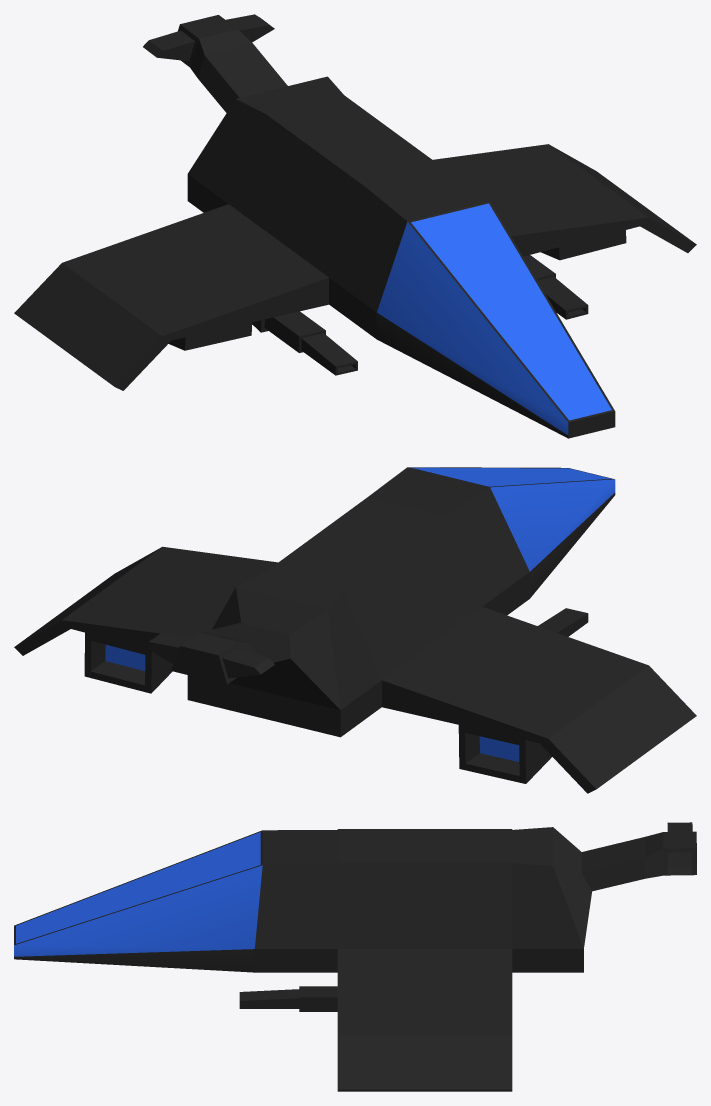
The model's file is Interceptor 1.FBX.
3 views of the same model, one above another, from view 1: azimuth 30°, elevation 25°; view 2: azimuth 150°, elevation 25°; view 3: azimuth 270°, elevation 25° (orthographic). The views are drawn at different scales.
Visible parts, largest first — view 1: Interceptor 1; view 2: Interceptor 1; view 3: Interceptor 1.
Part boxes in pixels (x1=…): Interceptor 1: x1=14, y1=14, x2=696, y2=438; Interceptor 1: x1=14, y1=467, x2=696, y2=793; Interceptor 1: x1=14, y1=822, x2=696, y2=1091.
Bounding box in the file's own units: 11.05 × 2.87 × 12.91.
